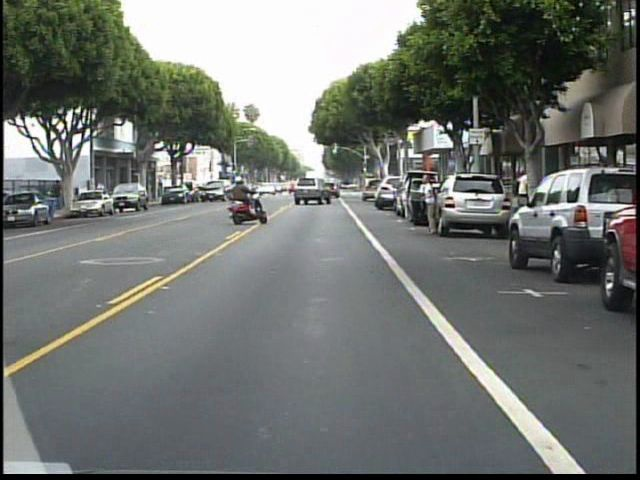person: (226, 172, 260, 220), (421, 170, 444, 239), (50, 177, 67, 215)
